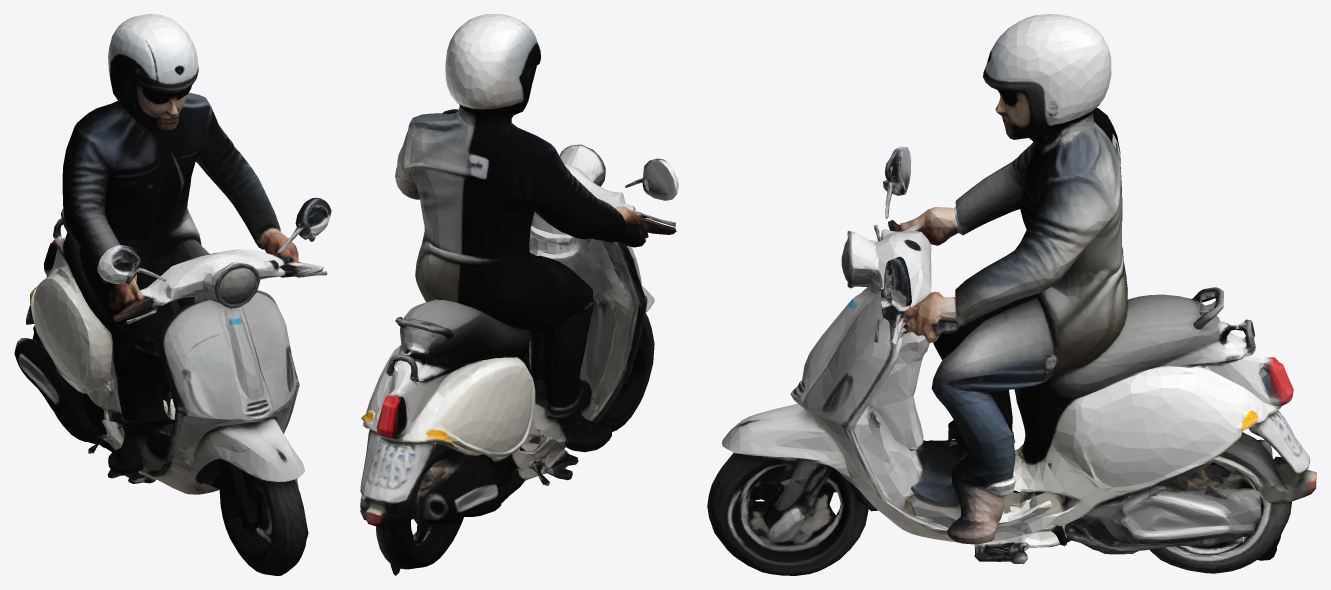
The model's file is scooter.glb.
3 views of the same model, side by side, from view 1: azimuth 30°, elevation 25°; view 2: azimuth 150°, elevation 25°; view 3: azimuth 270°, elevation 25° (orthographic). The views are drawn at different scales.
Visible parts, largest first — view 1: world; view 2: world; view 3: world.
Part boxes in pixels (x1,y1,x2,y2): world: (14,14,331,575); world: (360,14,678,575); world: (707,14,1316,575).
Size of the model in its own units: 0.518 by 0.9999 by 0.9979.
1 material, 1 textured.
